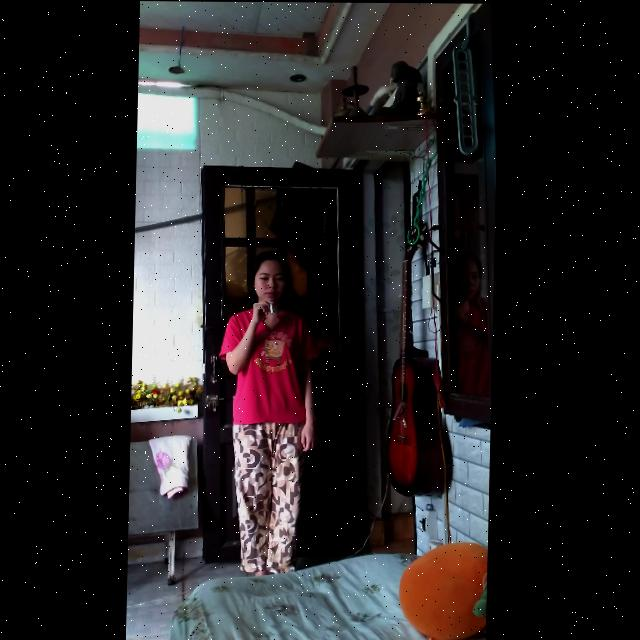cigarette: (270, 300, 275, 314)
